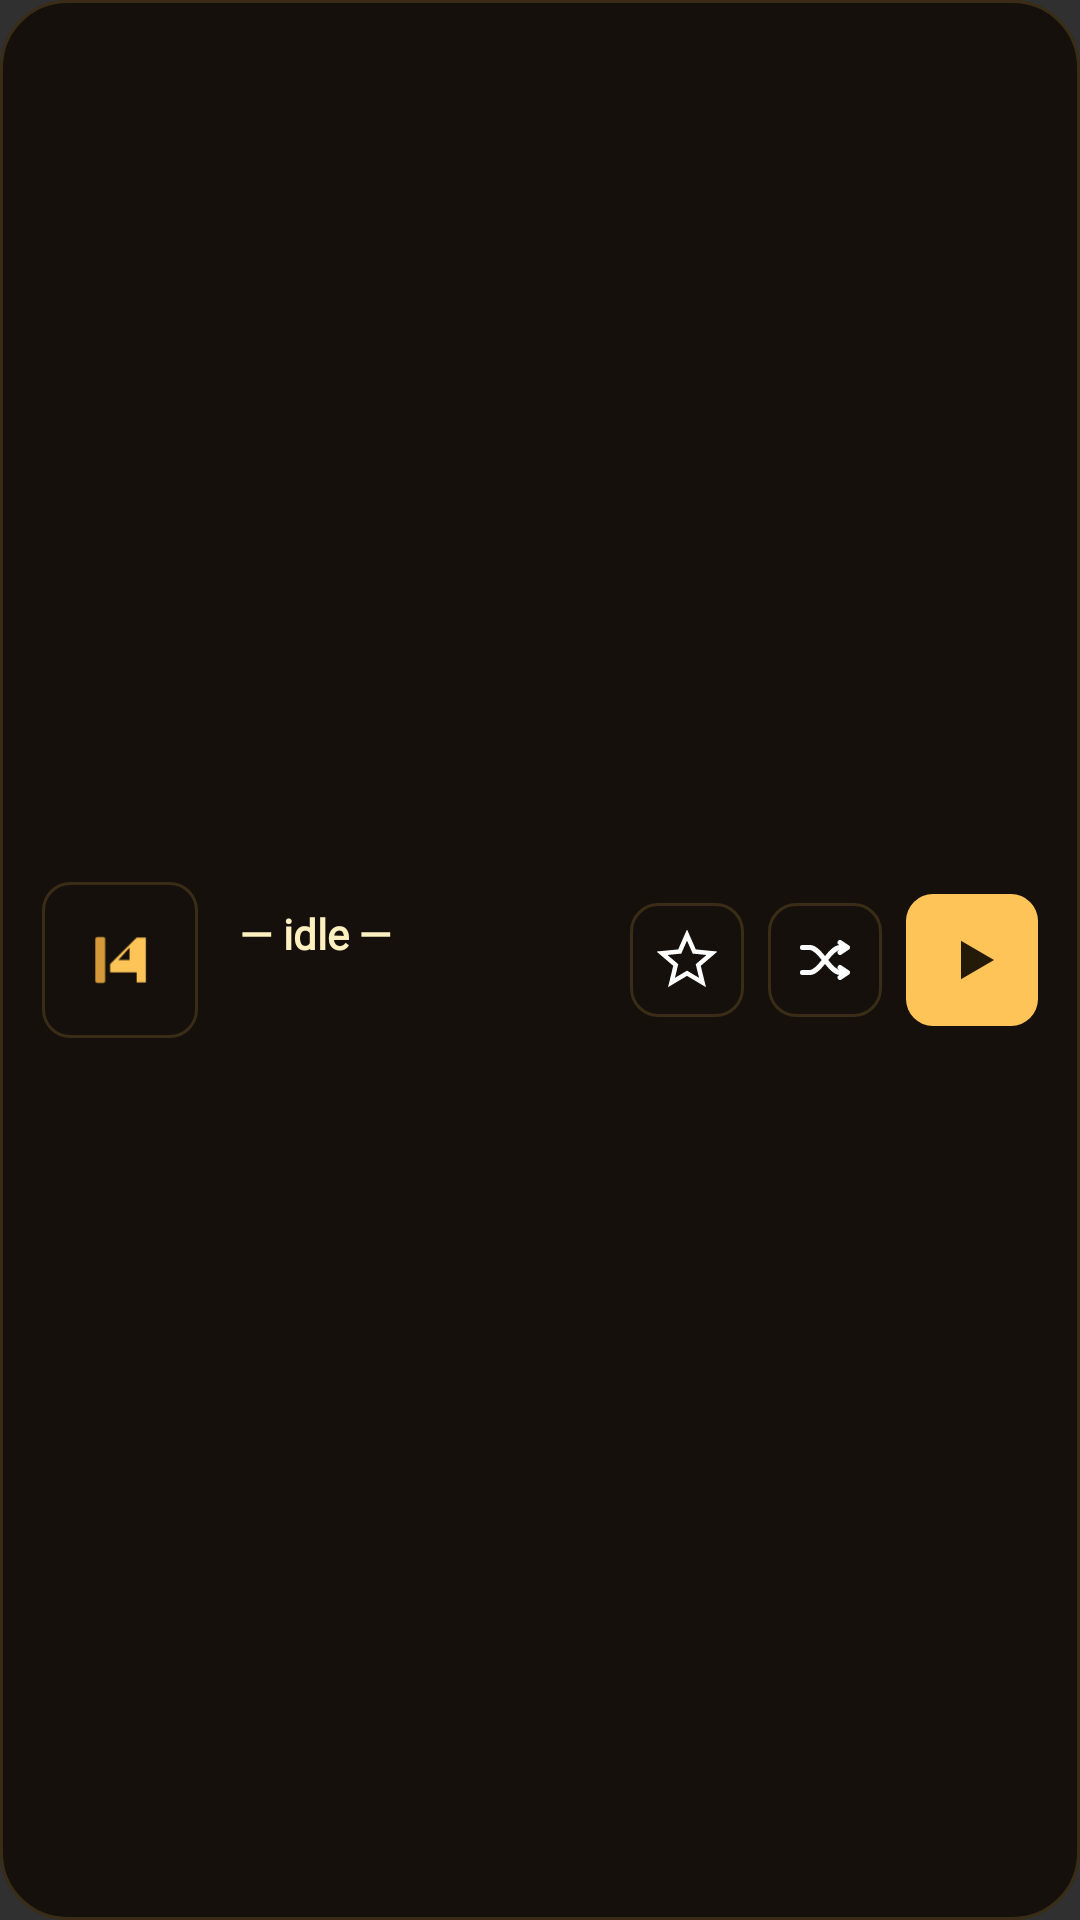

Icons on this 1080 x 1920 Android screen, each with the point to tap as (x,y):
play or pause: (972,960)
shuffle: (825,960)
star this station: (687,960)
